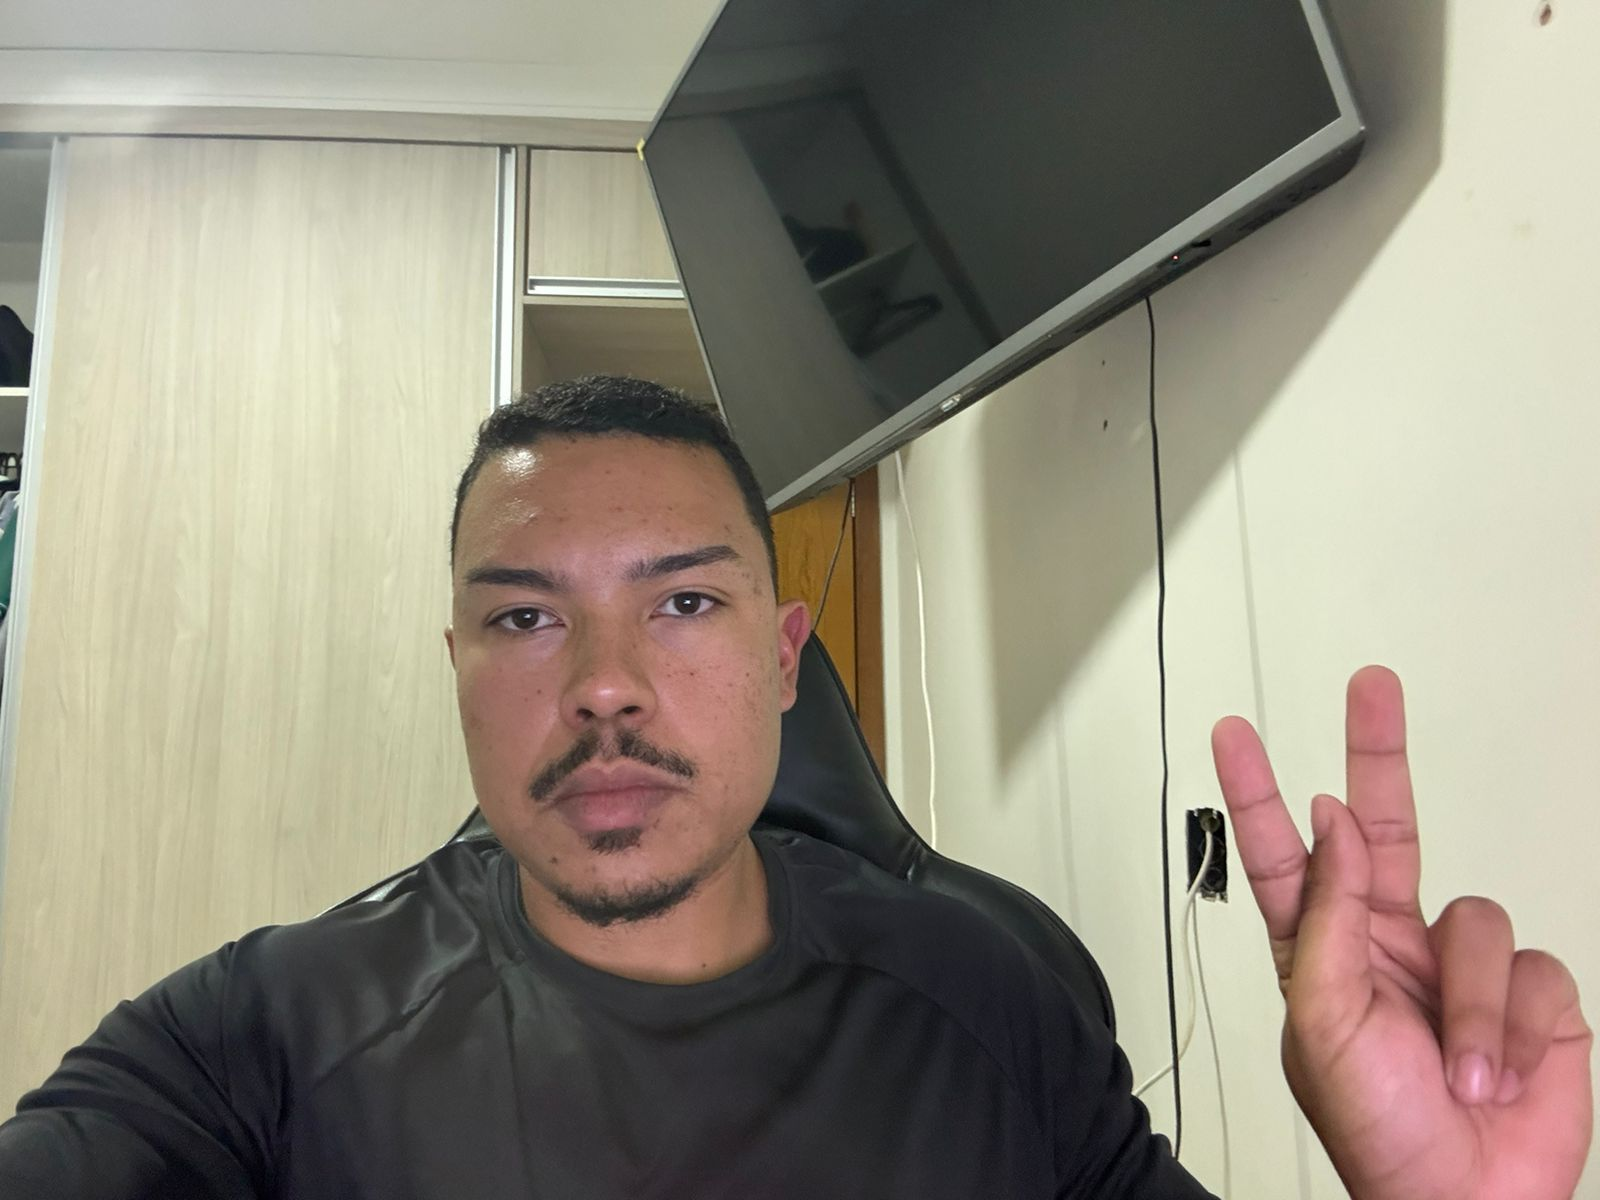k: (1194, 654, 1600, 1200)
